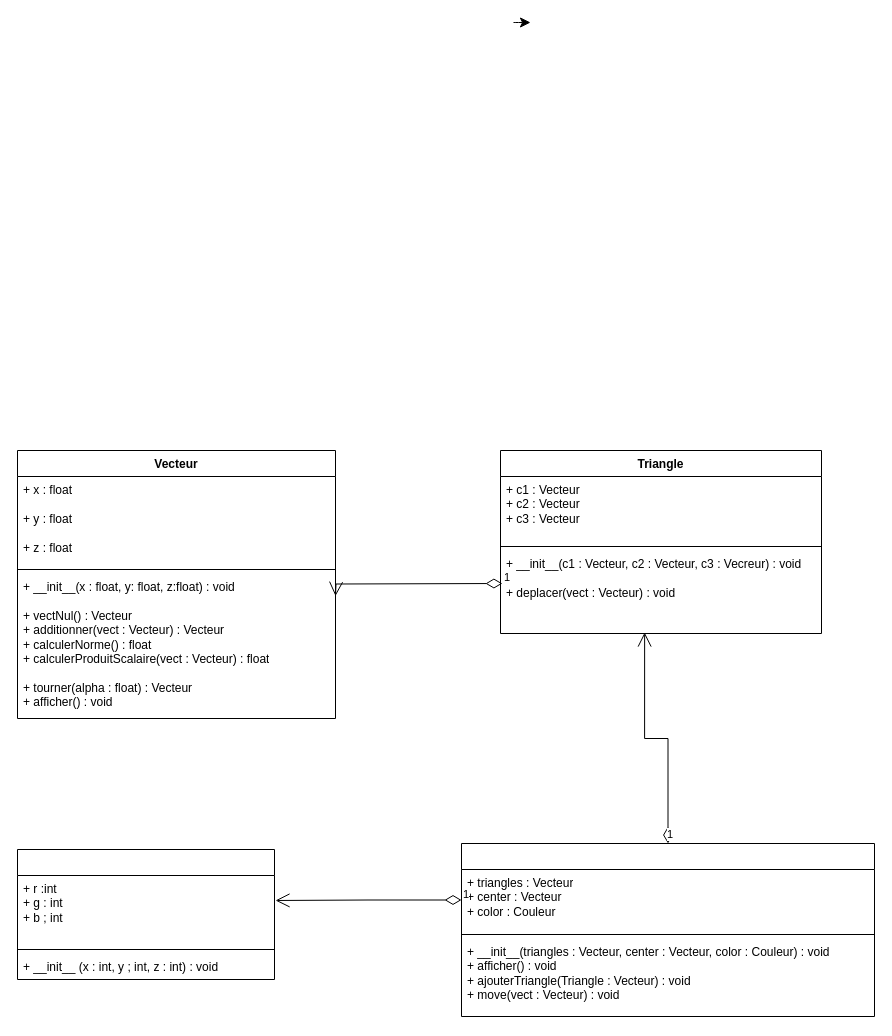
Some shapes in this 892 by 1036 pixel diagram are drawn without their labels. The shapes that lost their labels are listed below. From the top down, each one's box as (x1, y1, x2, y2) in pixels, then its label:
(16, 848, 274, 980): Couleur
(460, 842, 874, 1016): Objet3D
